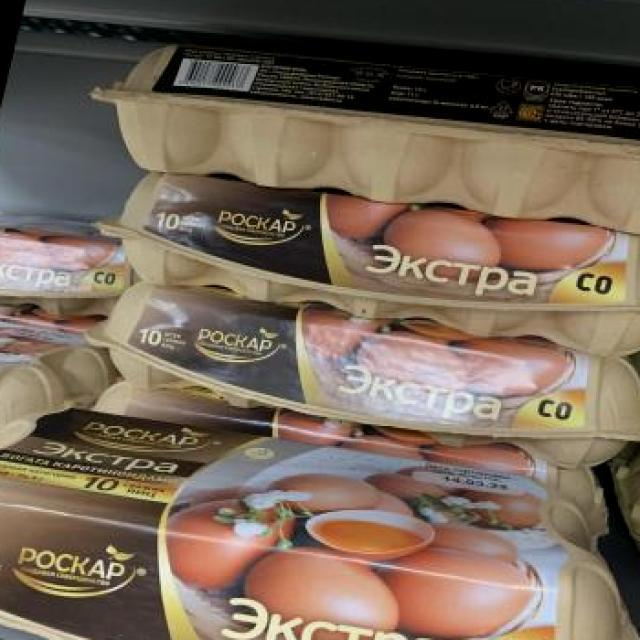egg: (0, 386, 640, 640), (80, 162, 640, 360), (67, 279, 640, 468), (0, 205, 144, 331), (0, 312, 121, 460)
